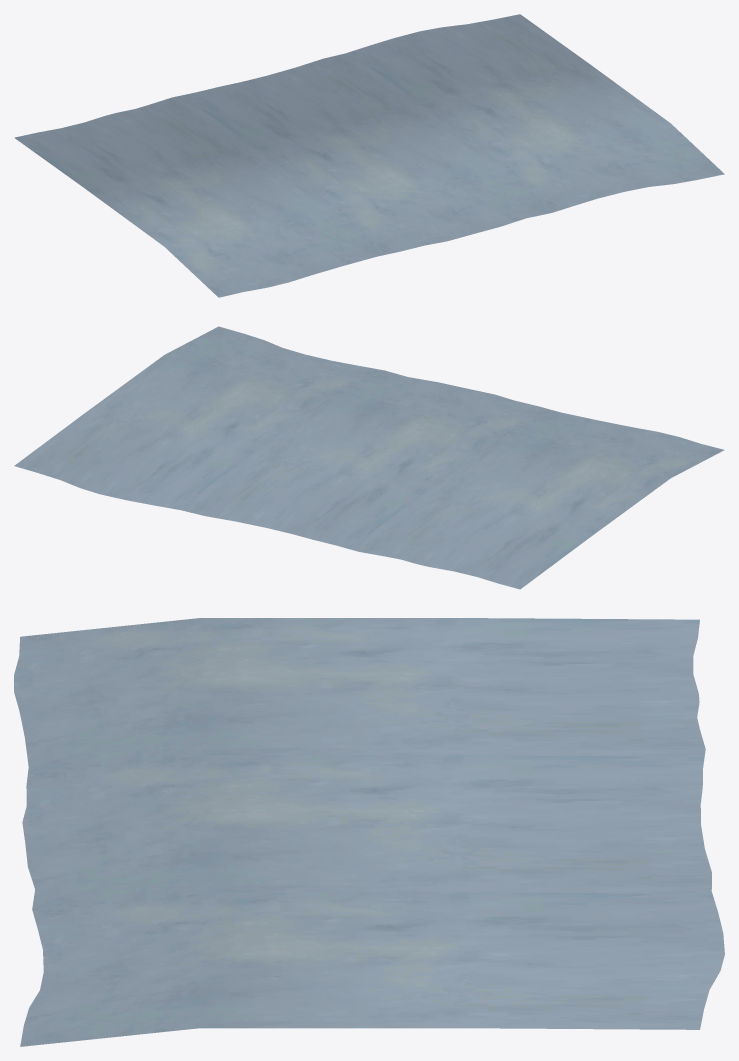
The model's file is map_114_dibiao_2.fbx.
3 views of the same model, one above another, from view 1: azimuth 30°, elevation 25°; view 2: azimuth 150°, elevation 25°; view 3: azimuth 270°, elevation 25° (orthographic). The views are drawn at different scales.
Visible parts, largest first — view 1: map_114_dibiao_2; view 2: map_114_dibiao_2; view 3: map_114_dibiao_2.
Boxes of the visible parts, x1,y1,x2,y2 form: map_114_dibiao_2: [14, 14, 724, 297]; map_114_dibiao_2: [14, 326, 724, 589]; map_114_dibiao_2: [14, 618, 724, 1046].
Bounding box in the file's own units: 60 × 1.27 × 43.95.
